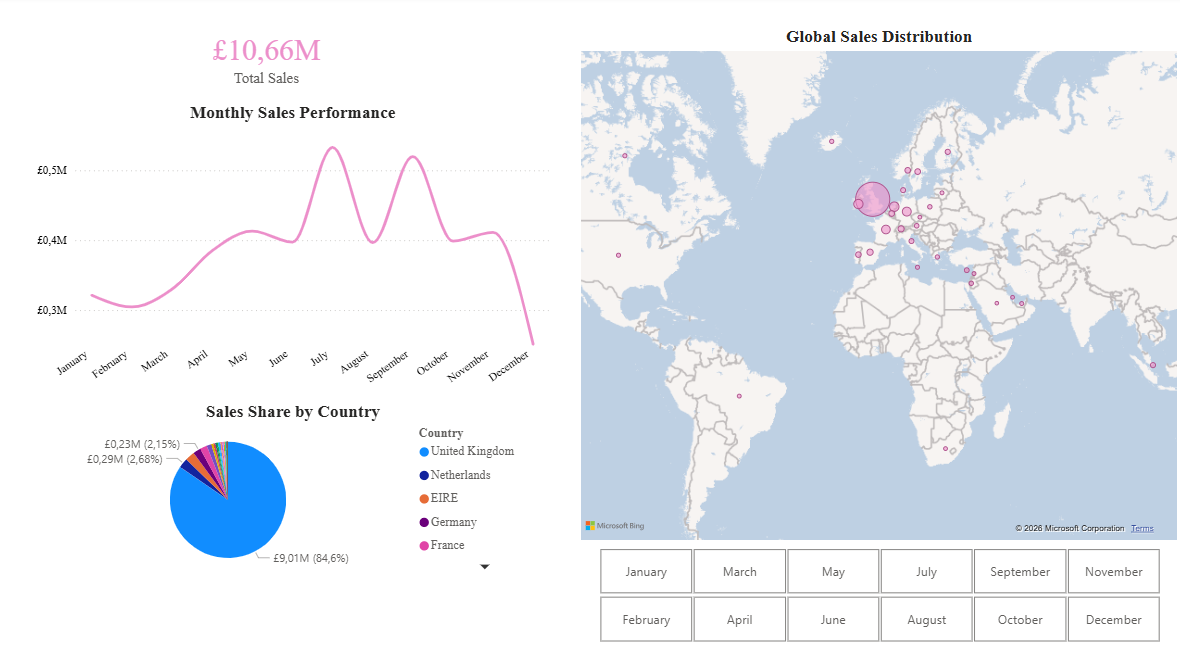

What the dashboard file says about the page in this screenshot:
{"tool":"powerbi","page":{"name":"Page 1","canvas":[1280,720],"ordinal":0},"visuals":[{"type":"card","fields":{"Values":["_Measure.Total Sales"]},"box":[194.3,16.2,194.3,100.4],"z":0},{"type":"map","title":"Global Sales Distribution","fields":{"Category":["Dim_Customer.Country"],"Size":["_Measure.Total Sales"]},"box":[626.7,33.3,653.3,558.3],"z":1000},{"type":"pieChart","title":"Sales Share by Country","fields":{"Category":["Data.Country"],"Y":["_Measure.Total Sales"]},"box":[38.9,438.8,563.5,191.1],"z":2000},{"type":"lineChart","title":"Monthly Sales Performance","fields":{"Y":["_Measure.Total Sales"],"Category":["Calendar.Month Name"]},"box":[39,116,563,323],"z":3000},{"type":"slicer","fields":{"Values":["Calendar.Month Name"]},"box":[626.7,591.7,653.3,113.3],"z":4000}]}

Visuals, with their boxes in screenshot pixels (x1, y1, x2, y2), scaled from the page's 1280x720 canvas onto the 1180x661 screenshot:
card - _Measure.Total Sales: locate(179, 15, 358, 107)
"Global Sales Distribution" map: locate(578, 31, 1179, 543)
"Sales Share by Country" pieChart: locate(36, 403, 555, 578)
"Monthly Sales Performance" lineChart: locate(36, 106, 555, 403)
slicer - Calendar.Month Name: locate(578, 543, 1179, 647)
